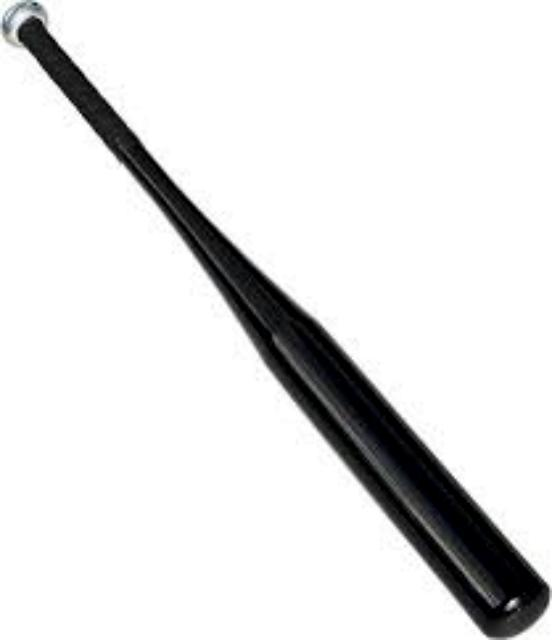baseball bat: (0, 0, 550, 638)
